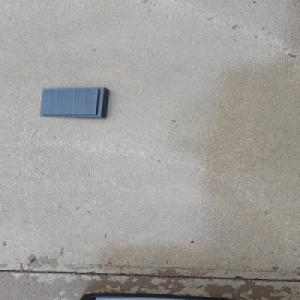PlasticPart: (38, 86, 111, 119)
